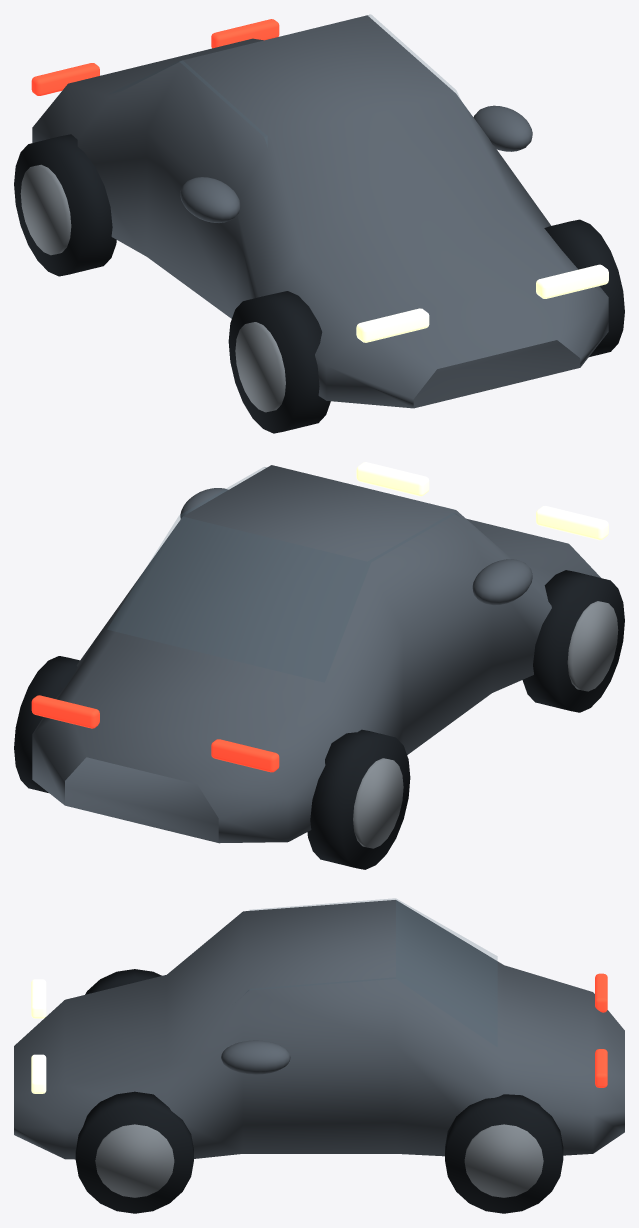
The model's file is car.glb.
3 views of the same model, one above another, from view 1: azimuth 30°, elevation 25°; view 2: azimuth 150°, elevation 25°; view 3: azimuth 270°, elevation 25° (orthographic). The views are drawn at different scales.
Visible parts, largest first — view 1: body_paint.001, body_rubber.001, body_steel.045, body_warm.031, body_red.005, body_glass.013; view 2: body_paint.001, body_glass.013, body_rubber.001, body_steel.045, body_warm.031, body_red.005; view 3: body_paint.001, body_rubber.001, body_steel.045, body_glass.013, body_warm.031, body_red.005.
Part boxes in pixels (left/top/right/bottom): body_paint.001: left=32, top=15, right=608, bottom=408; body_rubber.001: left=14, top=134, right=624, bottom=433; body_steel.045: left=20, top=164, right=285, bottom=412; body_warm.031: left=356, top=264, right=608, bottom=342; body_red.005: left=31, top=19, right=279, bottom=95; body_glass.013: left=110, top=14, right=460, bottom=144; body_paint.001: left=32, top=465, right=600, bottom=843; body_glass.013: left=107, top=467, right=456, bottom=682; body_rubber.001: left=14, top=570, right=624, bottom=869; body_steel.045: left=353, top=601, right=618, bottom=848; body_warm.031: left=356, top=462, right=608, bottom=540; body_red.005: left=31, top=695, right=279, bottom=772; body_paint.001: left=14, top=900, right=624, bottom=1159; body_rubber.001: left=75, top=969, right=563, bottom=1213; body_steel.045: left=95, top=1124, right=543, bottom=1197; body_glass.013: left=246, top=898, right=497, bottom=1046; body_warm.031: left=31, top=979, right=46, bottom=1093; body_red.005: left=595, top=973, right=607, bottom=1087.
Size of the model in its own units: 0.526 by 0.358 by 0.96.
